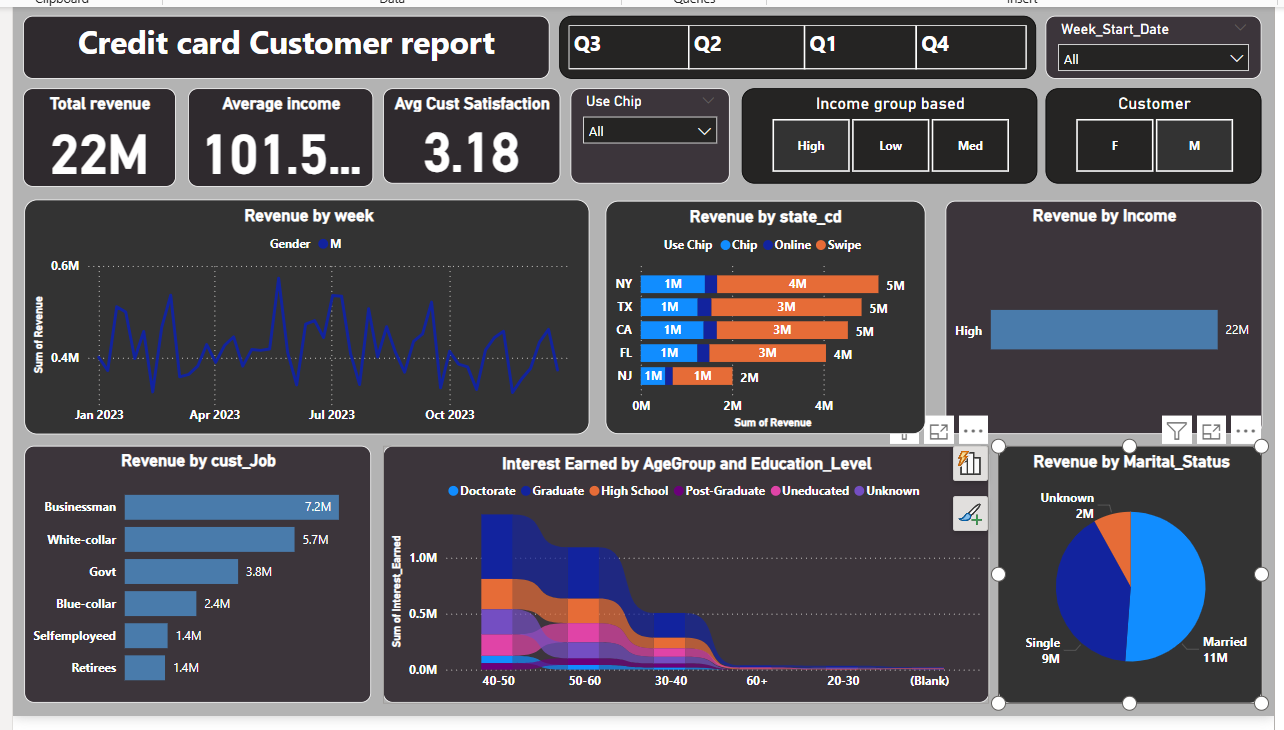

What the dashboard file says about the page in this screenshot:
{"tool":"powerbi","page":{"name":"customer report","canvas":[1280,720],"ordinal":1},"visuals":[{"type":"textbox","box":[10.1,8.8,534.7,64.3],"z":0},{"type":"barChart","title":" Revenue by Income","fields":{"Y":["Sum(credit_card.Revenue)"],"Category":["customer.IncomeGroup"]},"box":[945.9,196.3,321.5,236.5],"z":1000},{"type":"card","title":"Total revenue","fields":{"Values":["Sum(credit_card.Revenue)"]},"box":[10.1,82,155.1,99.6],"z":2000},{"type":"card","title":"Average income","fields":{"Values":["Avg(customer.Income)"]},"box":[177.3,82,188.2,100.1],"z":3000},{"type":"card","title":"Avg Cust Satisfaction","fields":{"Values":["Avg(customer.Cust_Satisfaction_Score)"]},"box":[375.2,82,179.8,96.5],"z":4000},{"type":"slicer","fields":{"Values":["credit_card.Week_Start_Date"]},"box":[1048,8.8,219.4,64.3],"z":5000},{"type":"treemap","fields":{"Group":["credit_card.Qtr"],"Values":["CountNonNull(credit_card.Client_Num)"]},"box":[554.9,8.8,484.3,64.3],"z":6000},{"type":"slicer","title":"Customer","fields":{"Values":["customer.Gender"]},"box":[1048,82,219.4,97.1],"z":7000},{"type":"slicer","title":"Income group based","fields":{"Values":["customer.IncomeGroup"]},"box":[739,82,300.1,97.1],"z":8000},{"type":"slicer","fields":{"Values":["credit_card.Use Chip"]},"box":[566.2,82,161.4,97.1],"z":9000},{"type":"lineChart","title":"Revenue by week","fields":{"Y":["Sum(credit_card.Revenue)"],"Series":["customer.Gender"],"Category":["credit_card.Week_Start_Date.Variation.Date Hierarchy.Year","credit_card.Week_Start_Date.Variation.Date Hierarchy.Month","credit_card.Week_Start_Date.Variation.Date Hierarchy.Day"]},"box":[10.8,194.7,573.4,238],"z":10000},{"type":"barChart","title":" Revenue by cust_Job","fields":{"Category":["customer.Customer_Job"],"Y":["Sum(credit_card.Revenue)"]},"box":[10.8,445.1,352.4,261.2],"z":10001},{"type":"ribbonChart","title":" Interest Earned by AgeGroup and Education_Level","fields":{"Category":["customer.AgeGroup"],"Y":["Sum(credit_card.Interest_Earned)"],"Series":["customer.Education_Level"]},"box":[375.6,445.1,615.1,261.2],"z":10002},{"type":"barChart","title":"Revenue by state_cd","fields":{"Category":["customer.state_cd"],"Y":["Sum(credit_card.Revenue)"],"Series":["credit_card.Use Chip"]},"box":[601.2,196.3,324.6,236.5],"z":10003},{"type":"pieChart","title":"Revenue by Marital_Status","fields":{"Category":["customer.Marital_Status"],"Y":["Sum(credit_card.Revenue)"]},"box":[999.6,445.3,267.7,261.3],"z":10004}]}

Visuals, with their boxes in screenshot pixels (x1, y1, x2, y2):
textbox: <bbox>17, 12, 546, 76</bbox>
" Revenue by Income" barChart: <bbox>942, 198, 1260, 431</bbox>
"Total revenue" card: <bbox>17, 84, 170, 183</bbox>
"Average income" card: <bbox>182, 84, 368, 183</bbox>
"Avg Cust Satisfaction" card: <bbox>378, 84, 556, 180</bbox>
slicer - credit_card.Week_Start_Date: <bbox>1043, 12, 1260, 76</bbox>
treemap - credit_card.Qtr x CountNonNull(credit_card.Client_Num): <bbox>556, 12, 1035, 76</bbox>
"Customer" slicer: <bbox>1043, 84, 1260, 181</bbox>
"Income group based" slicer: <bbox>738, 84, 1035, 181</bbox>
slicer - credit_card.Use Chip: <bbox>567, 84, 726, 181</bbox>
"Revenue by week" lineChart: <bbox>17, 196, 585, 431</bbox>
" Revenue by cust_Job" barChart: <bbox>17, 444, 366, 702</bbox>
" Interest Earned by AgeGroup and Education_Level" ribbonChart: <bbox>378, 444, 987, 702</bbox>
"Revenue by state_cd" barChart: <bbox>601, 198, 923, 431</bbox>
"Revenue by Marital_Status" pieChart: <bbox>996, 444, 1260, 702</bbox>
